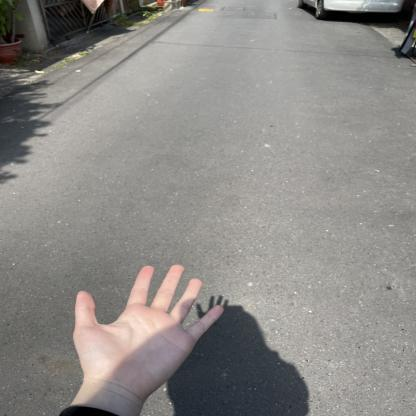bare_hand: (62, 256, 233, 403)
